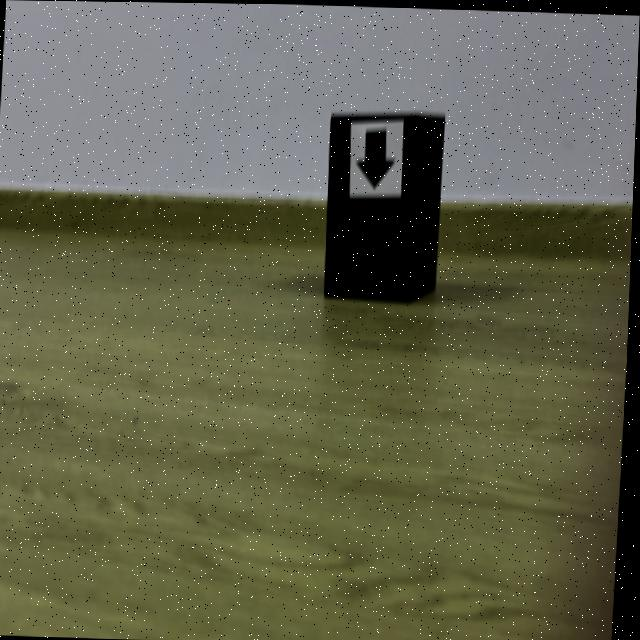DOWN: (359, 129, 393, 185)
